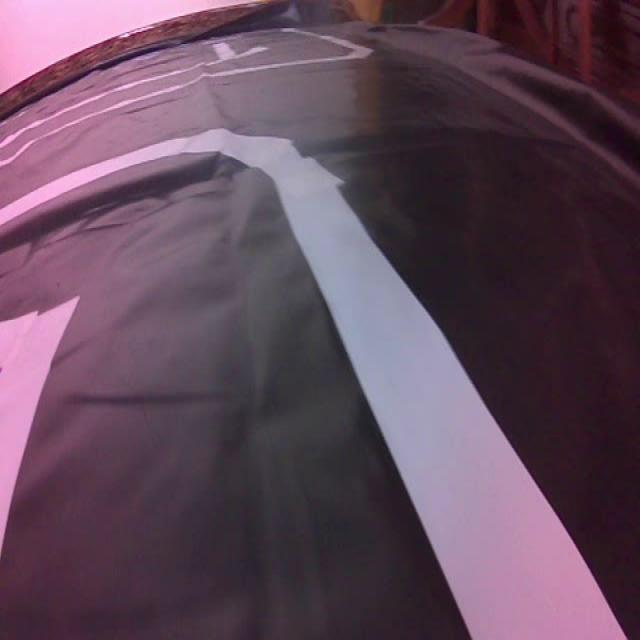LineaCarril: (0, 128, 624, 638), (0, 297, 78, 552)
